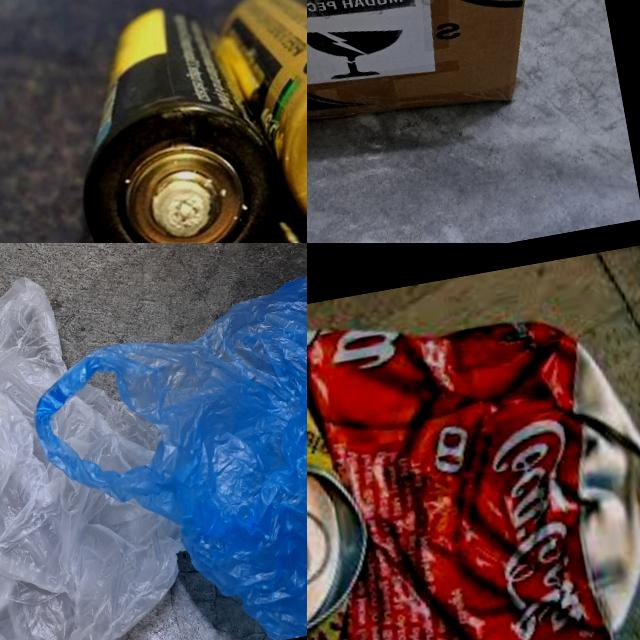bateria: (51, 0, 295, 243), (27, 148, 307, 243), (213, 0, 307, 243)
lata: (307, 257, 640, 640)
papelão: (307, 0, 565, 160)
sacola plástica: (10, 243, 307, 640), (0, 254, 213, 640)
